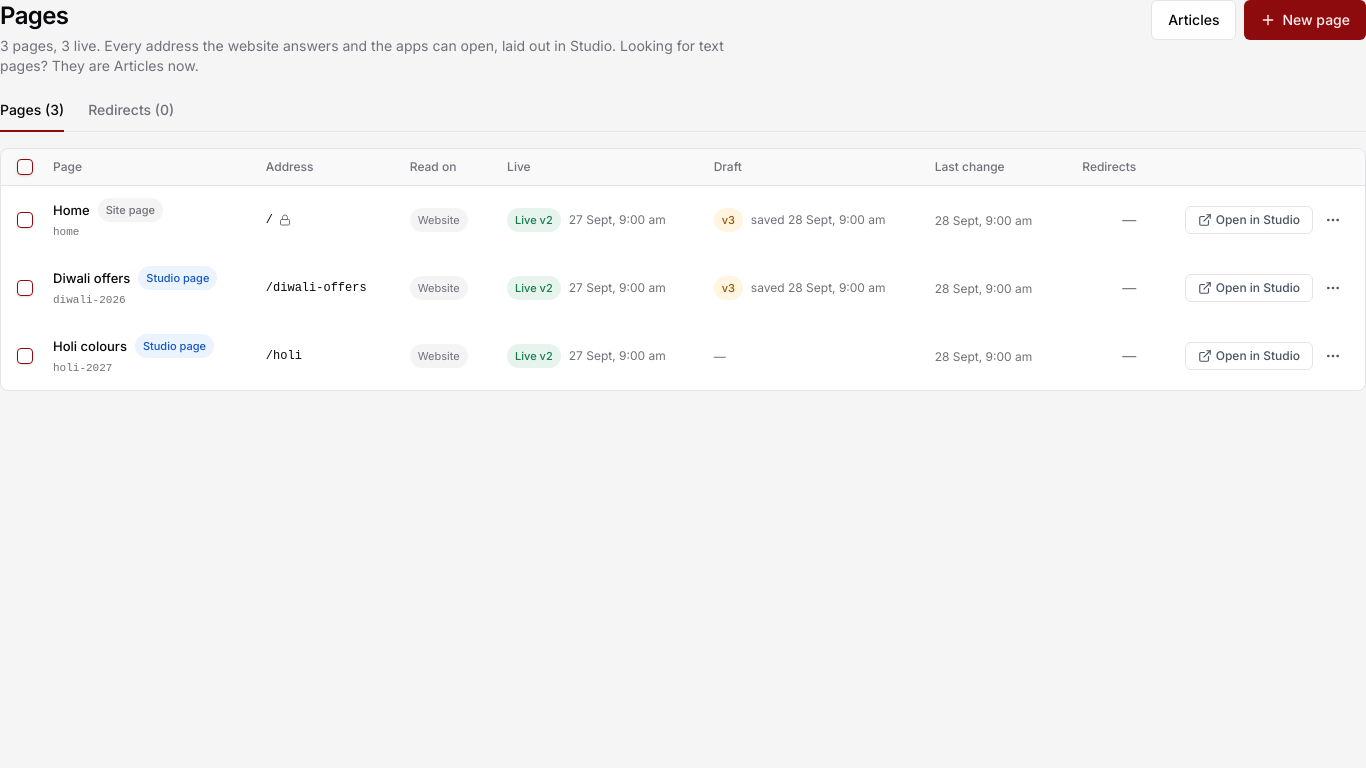
publishing drafts › publishes a site page through its surface and a Studio page through its key, with the one note, skipping a page with no draft
Click the checkbox named "Select all rows".
click(25, 167)  # box [17,159,33,175]
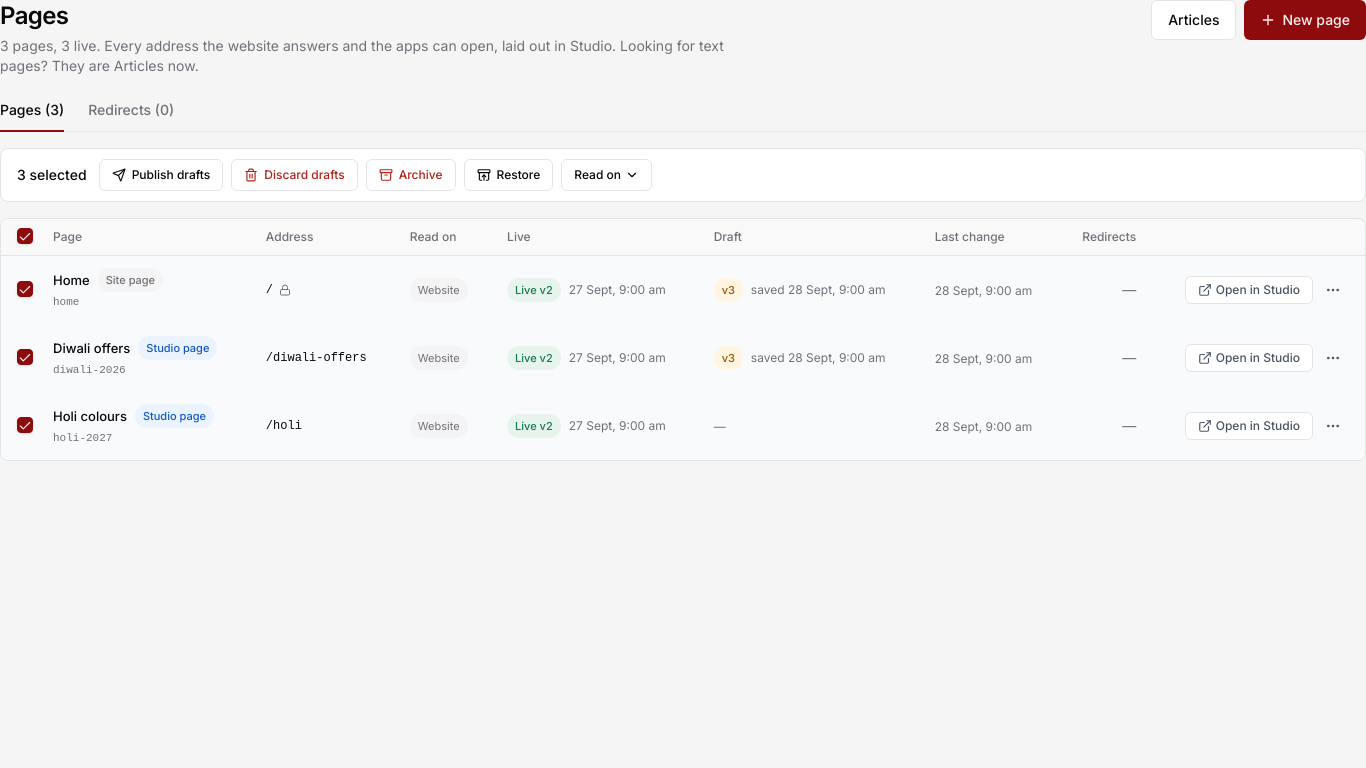
Check: the text "3 selected" is shown, box [17,165,87,185]
Click the button with test id "bulk-publish".
click(161, 175)  # box [99,159,223,191]
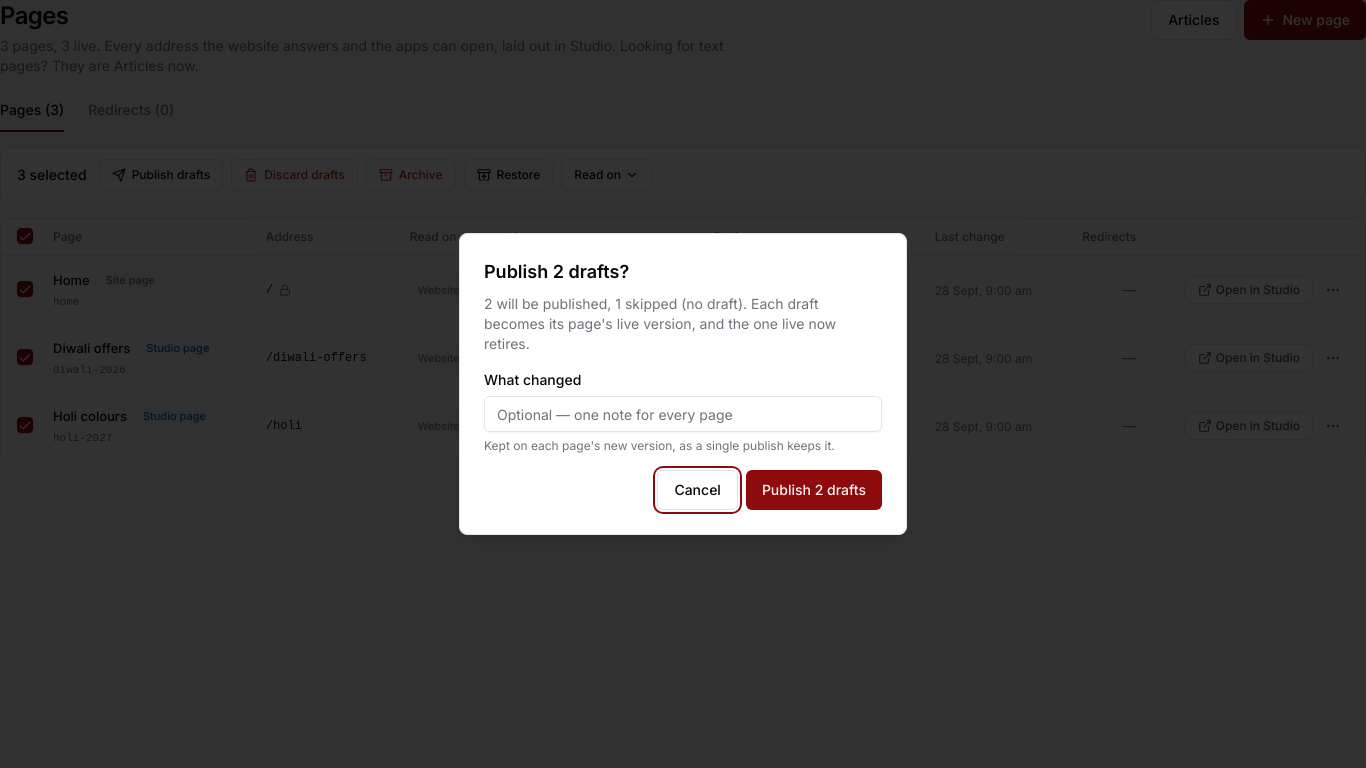
Check: the heading "Publish 2 drafts?" is shown, box [484,261,629,282]
Check: the text "2 will be published, 1 skipped (no draft)." is shown, box [484,295,836,352]
Type "Festive banners" into the field with test id "bulk-publish-note".
click(683, 414); type("Festive banners")  # box [484,396,882,432]
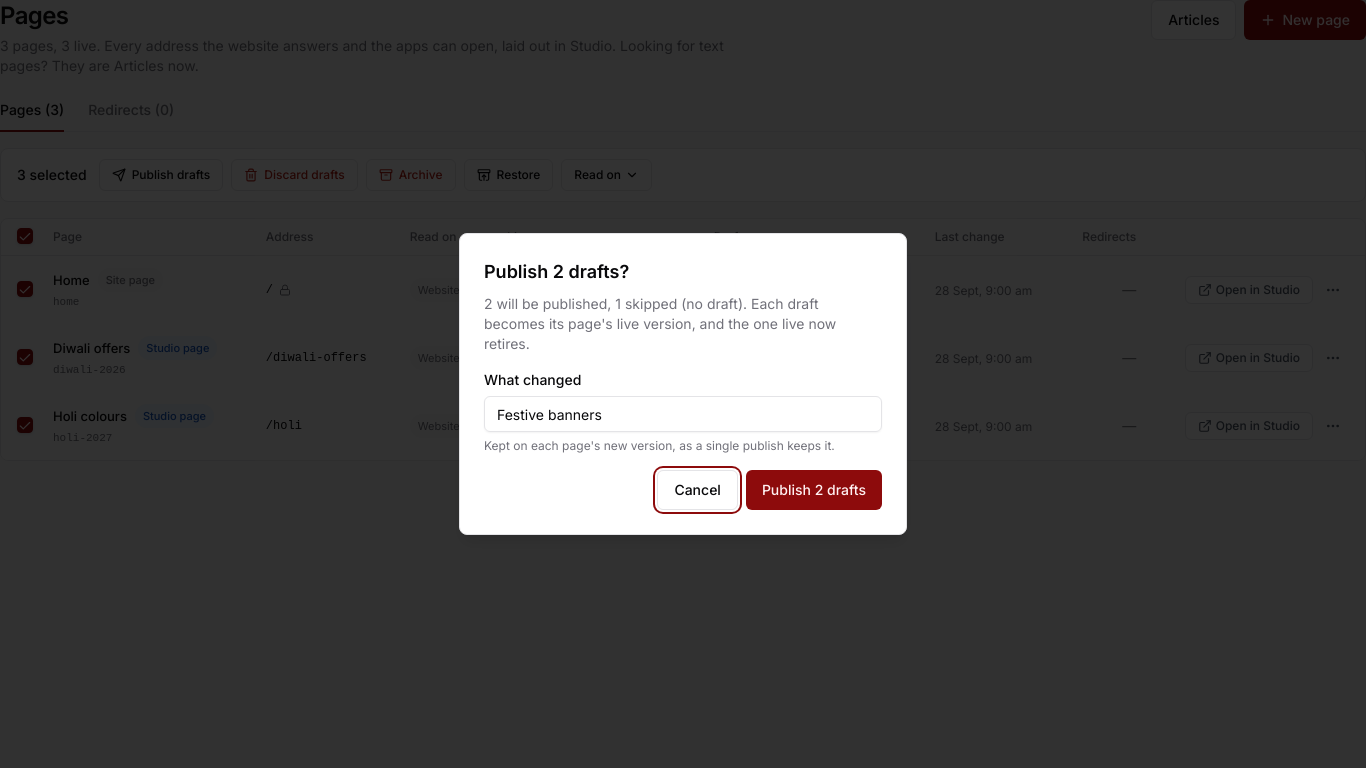
Click the button "Publish 2 drafts".
click(814, 490)  # box [746,470,882,510]
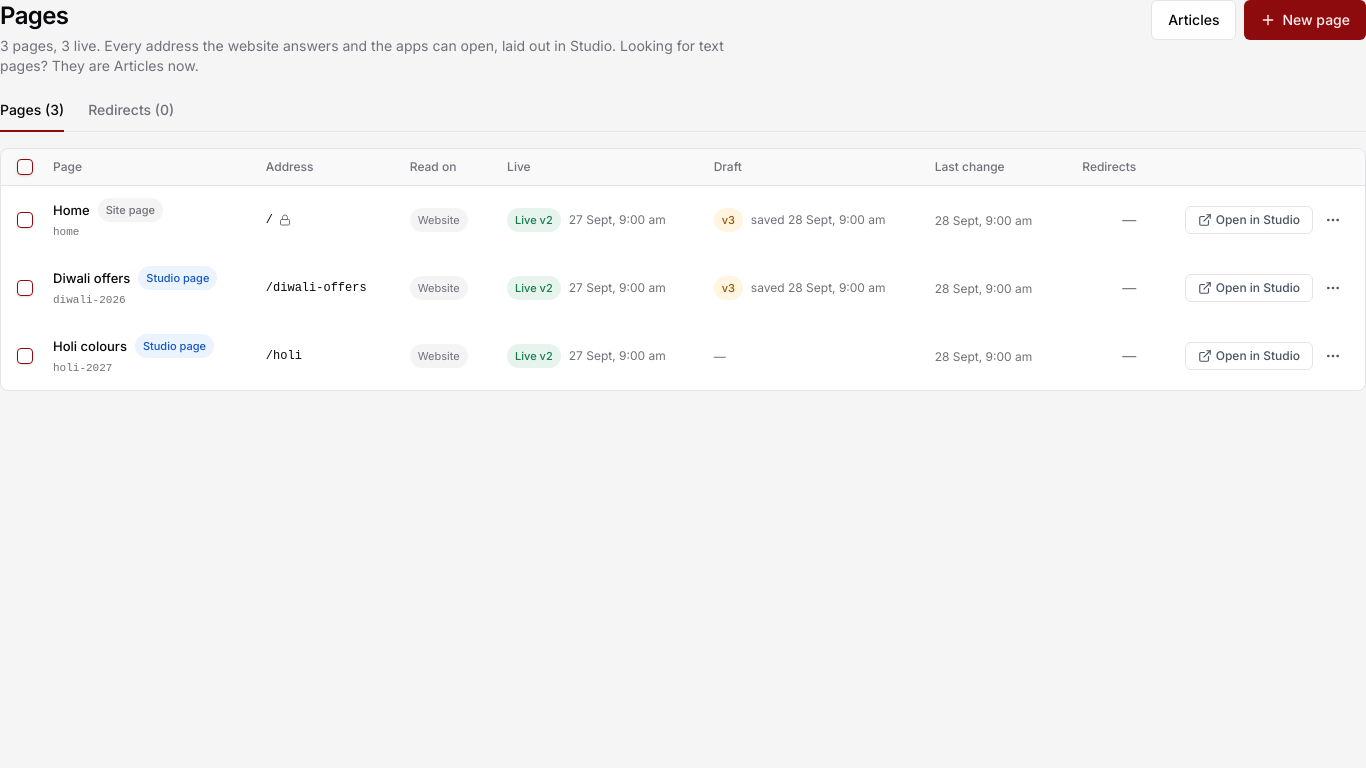
Check: the text "selected" is gone
